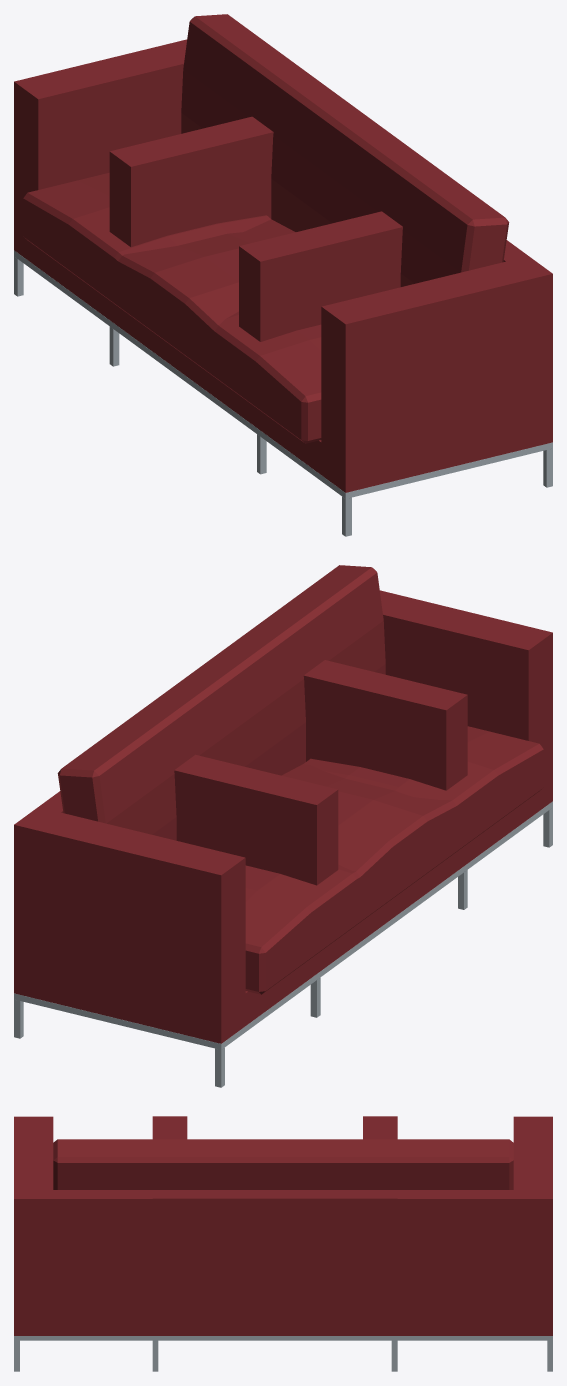
File: couch office.fbx
The picture shows the model from 3 angles, top to bottom: view 1: azimuth 30°, elevation 25°; view 2: azimuth 150°, elevation 25°; view 3: azimuth 270°, elevation 25°; orthographic projection. The views are drawn at different scales.
Parts seen in each view (by area): view 1: Couch office.001, Couch office; view 2: Couch office.001, Couch office; view 3: Couch office.001, Couch office.
Boxes of the visible parts, bbox=[...] form: Couch office.001: bbox=[14, 14, 552, 536]; Couch office: bbox=[109, 81, 402, 474]; Couch office.001: bbox=[14, 565, 552, 1087]; Couch office: bbox=[154, 625, 467, 1017]; Couch office.001: bbox=[14, 1116, 552, 1371]; Couch office: bbox=[152, 1116, 397, 1371].
Size of the model in its own units: 68.47 by 75.63 by 175.
